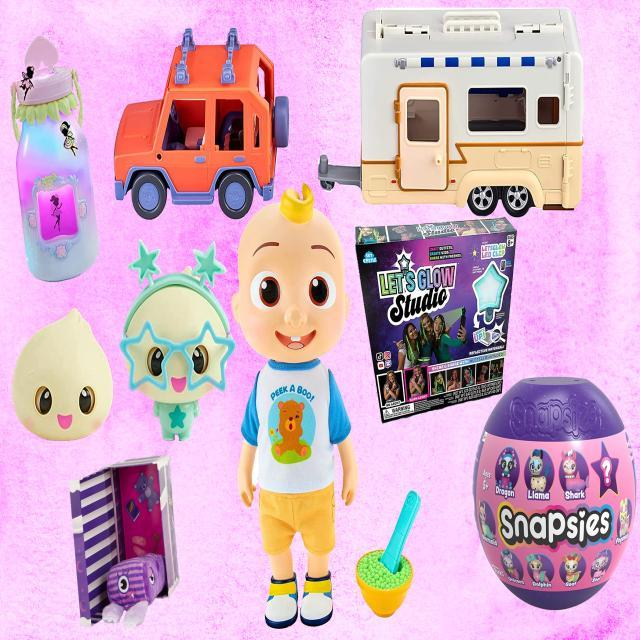soft-toy: (233, 185, 358, 628), (69, 455, 181, 631), (12, 309, 114, 443)
